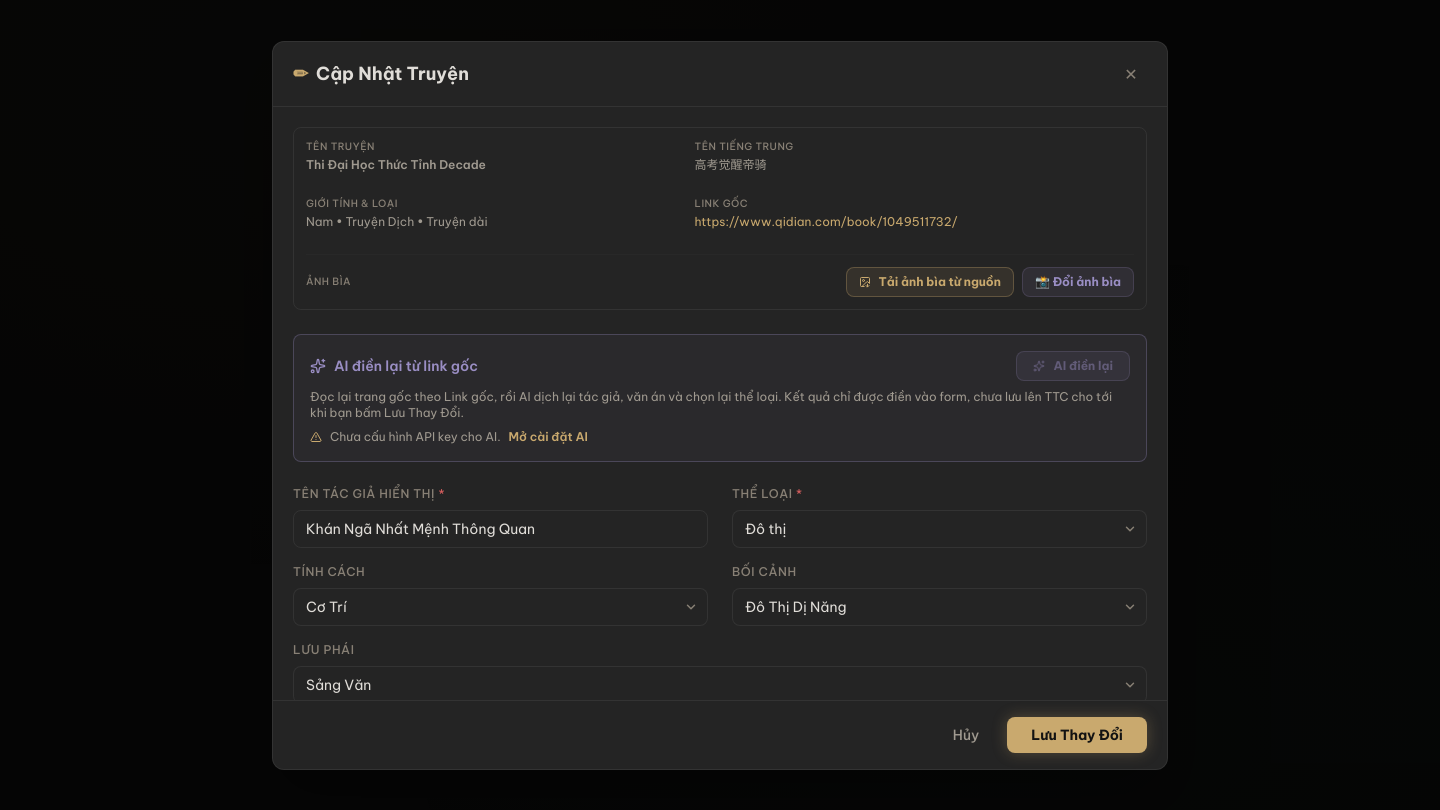
EditBookModal cover upload › reports a cover that cannot be downloaded from the source
Click the button "Tải ảnh bìa từ nguồn" at [930, 282], box top-left (846, 267), bottom-right (1014, 297)
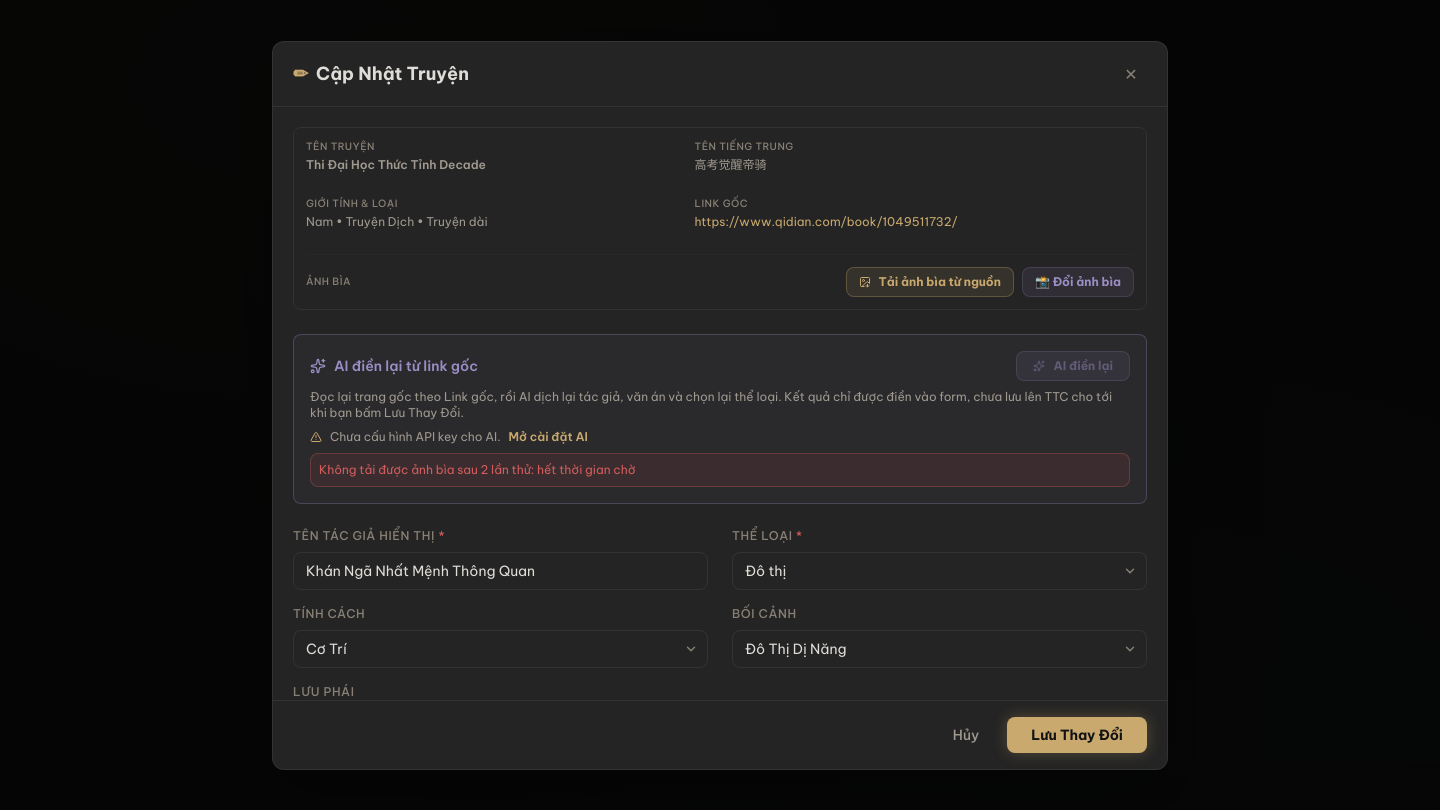
Result: the message reads "Không tải được ảnh bìa sau 2 lần thử: hết thời gian chờ" at top-left (319, 462), bottom-right (636, 477)
